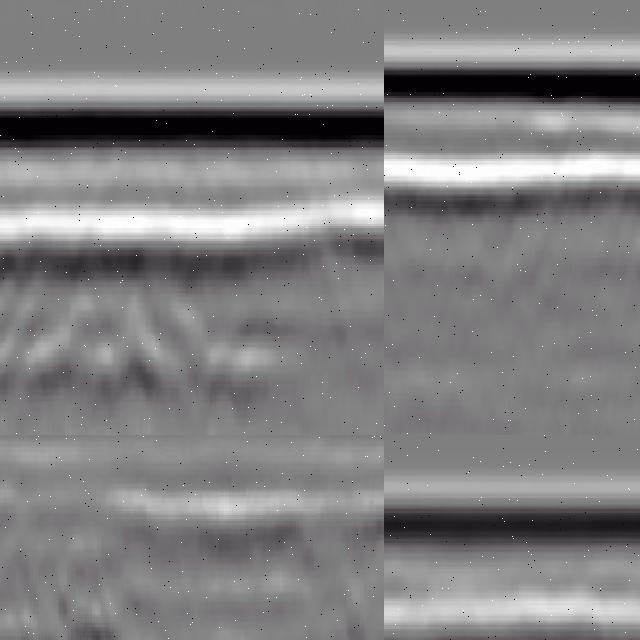crack: (68, 497, 113, 640)
loose: (1, 235, 273, 400)
